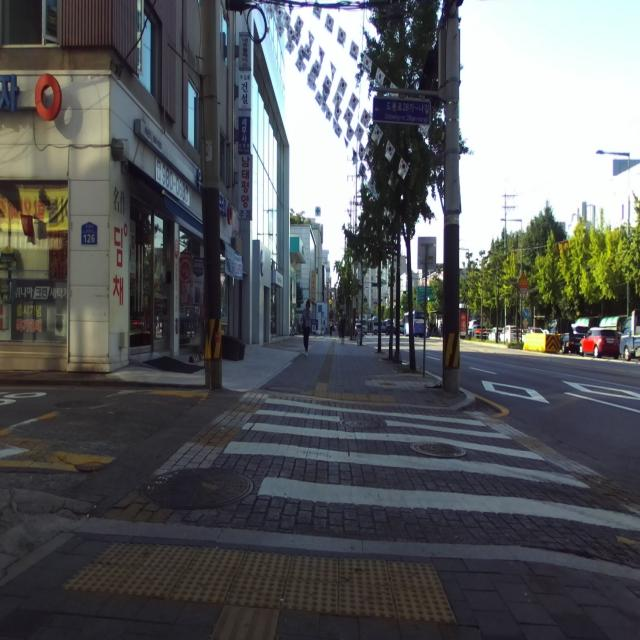횡단보도: (224, 397, 640, 530)
